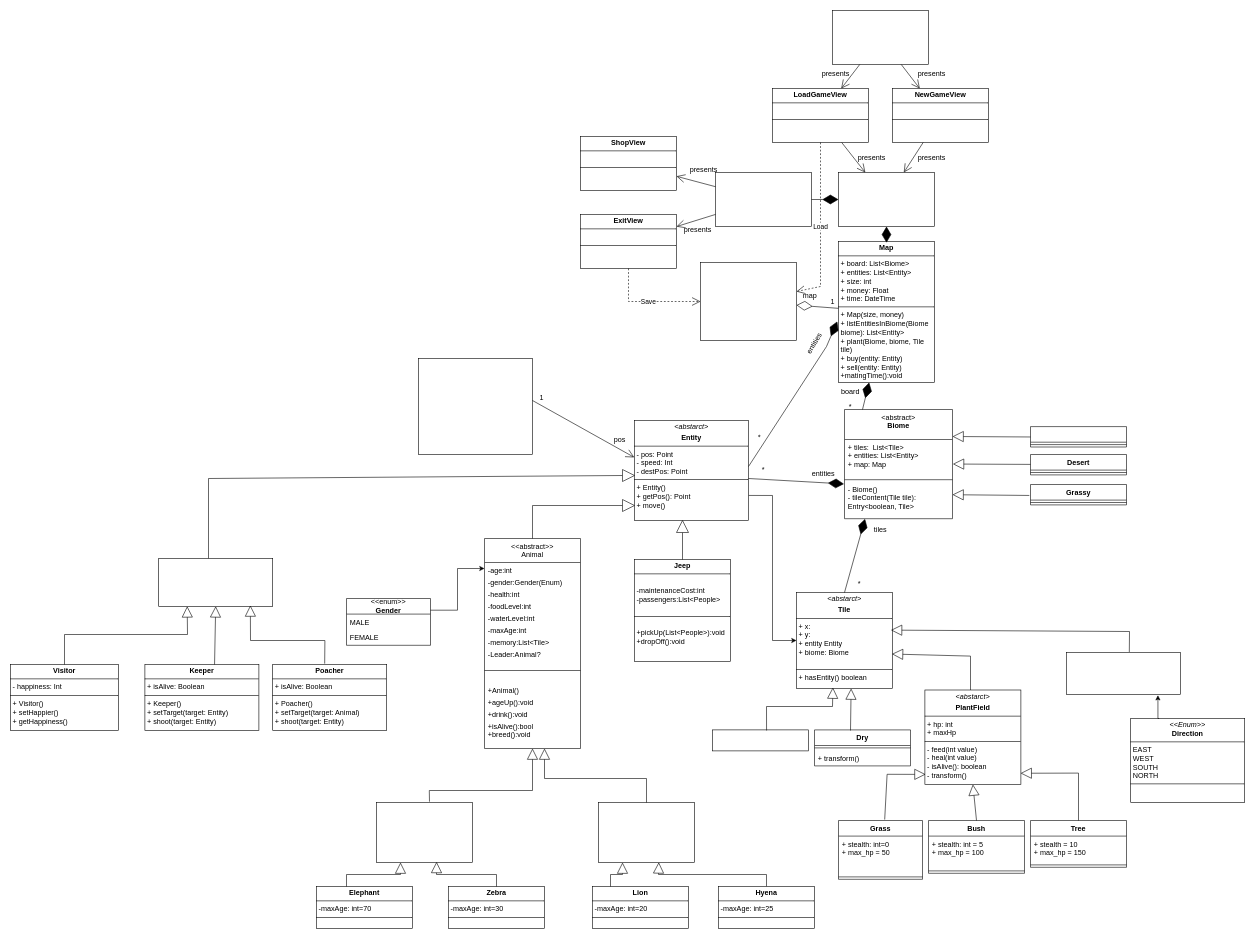
Image size: 1255x939. Some labels were removed from this diagram. The shapes that lost their labels are listed below. From the top down, each one's centre as x and y in pixels, then its label:
the point at 880,37: MenuView + showLoadGameView() + showNewGameView()
the point at 763,199: PlayerControlView
the point at 886,199: MapView
the point at 748,301: Database + mapIds: Int* + map: Map + saveGame() + loadGame() + getIdsAsync()
the point at 475,406: Point + x: int + y: int + Point() + setX(x: Int) + setY(y: Int)
the point at 1078,436: Swamp
the point at 215,582: <abstarct> Human
the point at 1123,673: Road + directions: Tuple<Direction, Direction>
the point at 760,740: Water
the point at 424,832: <<abstract>> Herbivore + graze():void
the point at 646,832: <<abstract>> Carnivore + hunt():void
